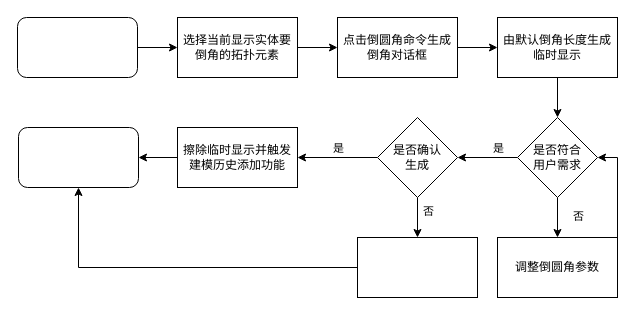
Some shapes in this 643 by 315 pixel diagram are drawn without their labels. Here are the shapes that lost their labels. From the top down, the box of each, then its label:
(16, 16, 138, 78): 开始
(18, 126, 138, 188): 结束
(356, 236, 478, 298): 擦除临时显示恢复原实体显示
